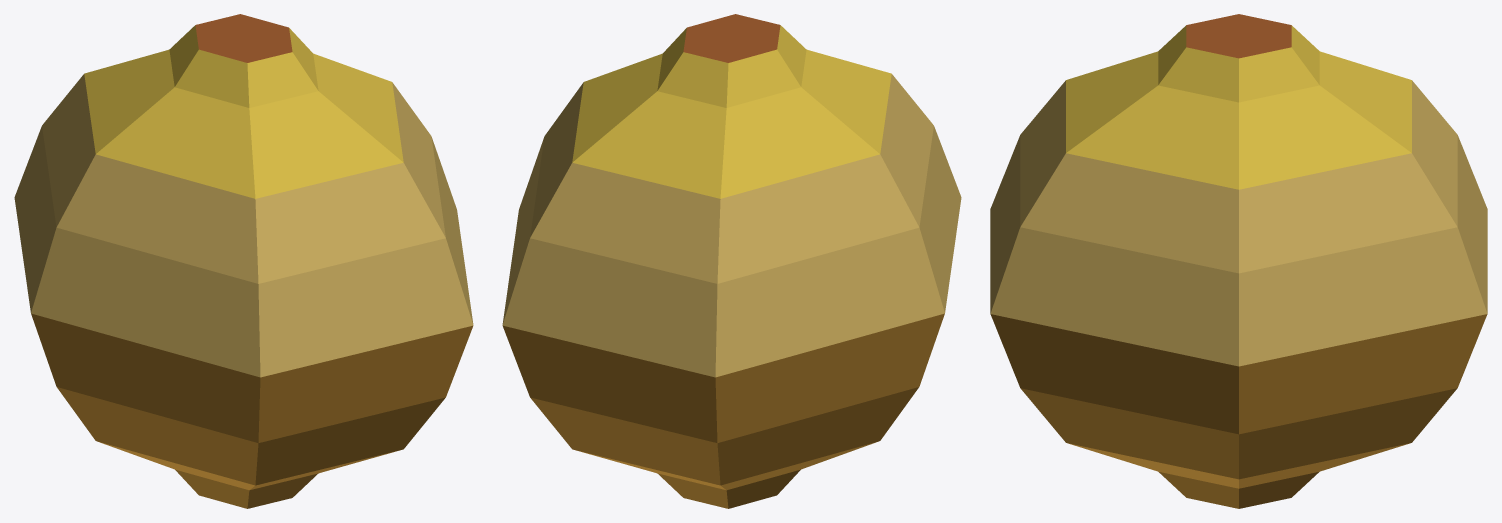
Rendered from lemon.glb.
3 renders of one model, left to right at view 1: azimuth 30°, elevation 25°; view 2: azimuth 150°, elevation 25°; view 3: azimuth 270°, elevation 25°, orthographic.
Size of the model in its own units: 1 by 1 by 1.
